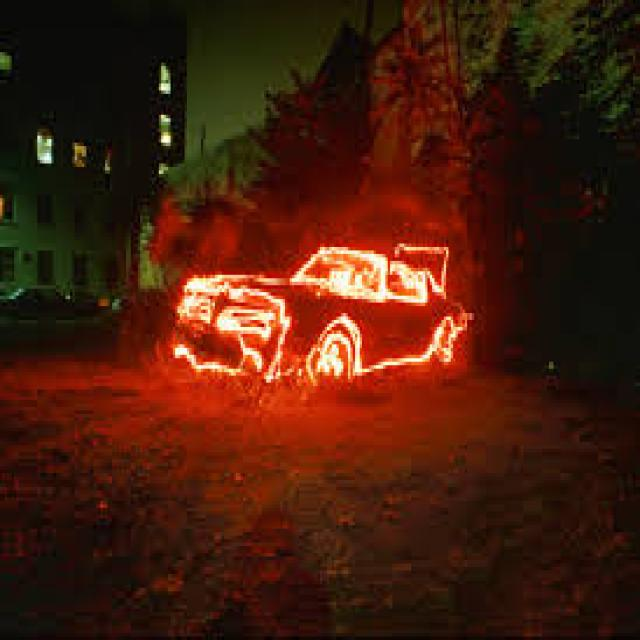Fire: (158, 230, 472, 390)
